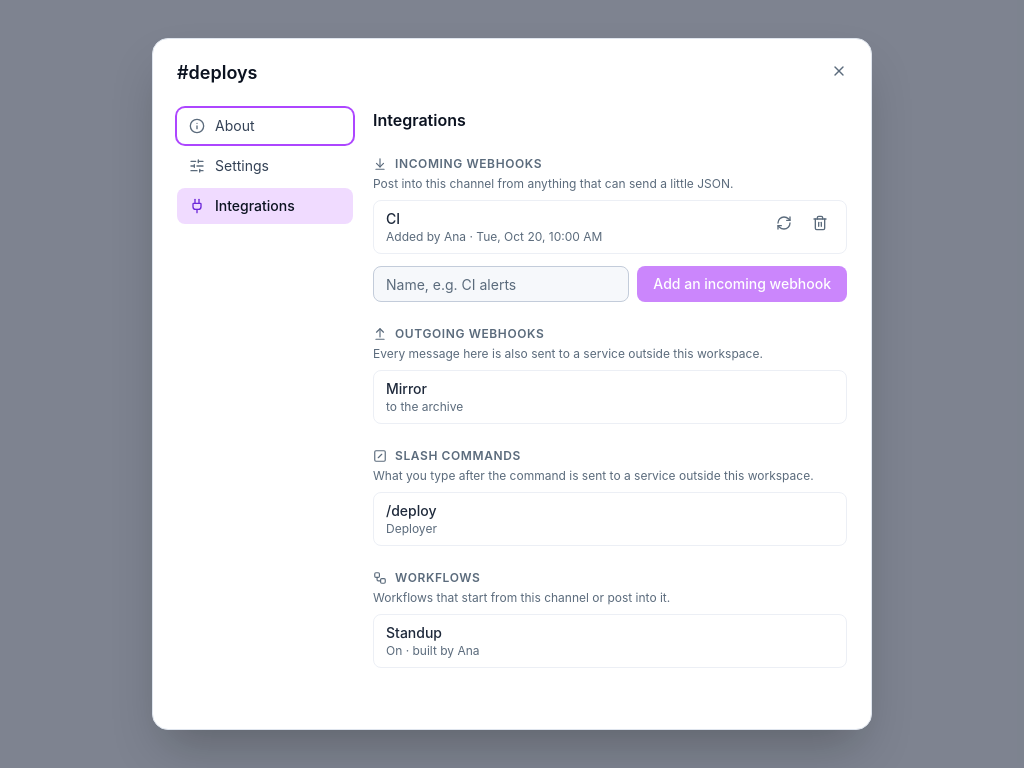
ChannelDetailsModal integrations › makes a new URL for a webhook and shows it under that webhook
This screenshot has width=1024, height=768.
Click the button with test id "channel-webhook-rotate": [784, 223] box x1=770 y1=209 x2=798 y2=237
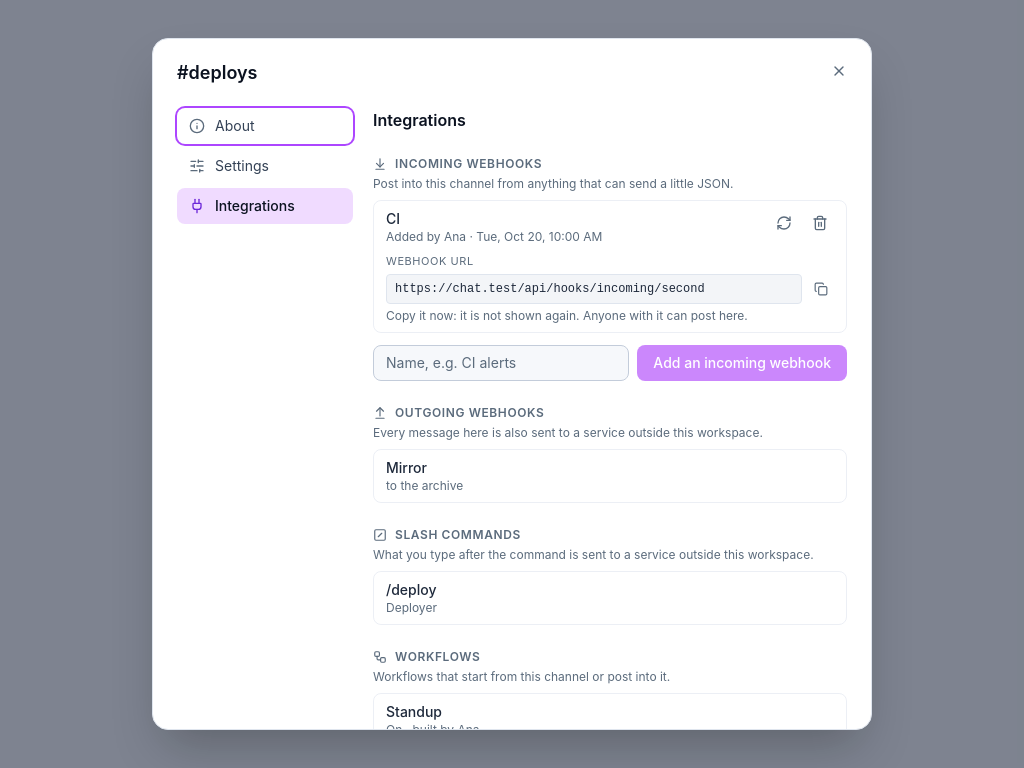
Expected: the text with test id "channel-webhook-url-value" reads "https://chat.test/api/hooks/incoming/second", x1=395 y1=282 x2=705 y2=296
